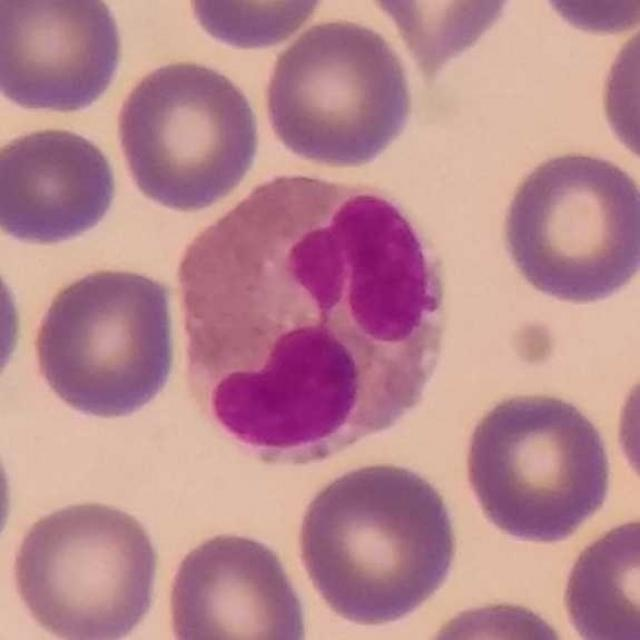Eosinophil: (170, 160, 448, 466)
RBC: (292, 456, 463, 630), (458, 385, 616, 547), (26, 262, 182, 424), (260, 13, 418, 170), (111, 54, 264, 214), (4, 493, 166, 640), (496, 145, 640, 308), (159, 525, 313, 640), (0, 120, 122, 249), (0, 0, 128, 118), (359, 0, 521, 68), (557, 511, 640, 640), (181, 0, 333, 52), (411, 593, 578, 640), (594, 7, 640, 174), (610, 354, 640, 505), (526, 0, 640, 39), (0, 246, 27, 403), (2, 434, 20, 544)
